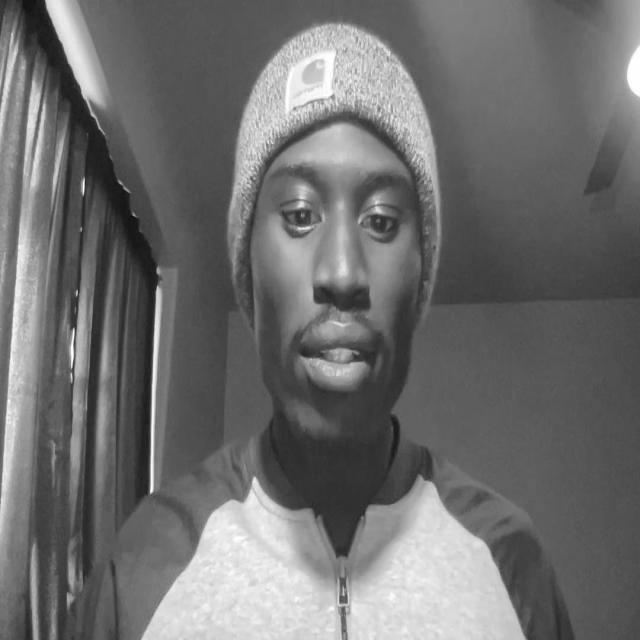real: (250, 120, 420, 430)
